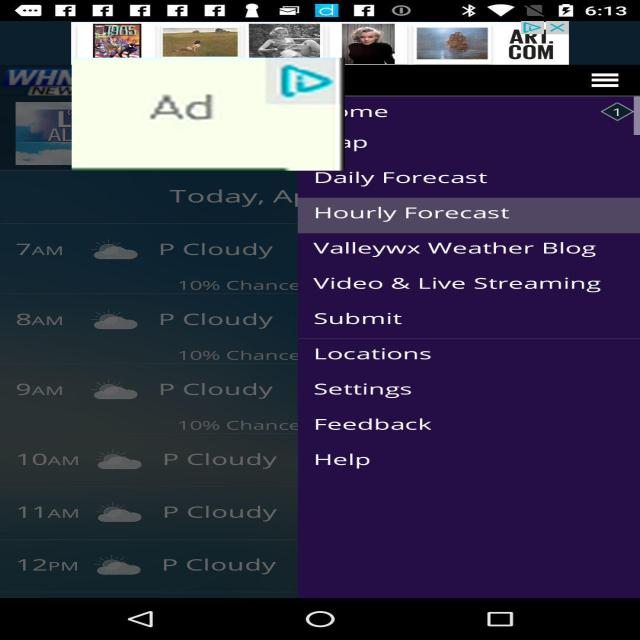sneaking: (72, 58, 345, 170)
